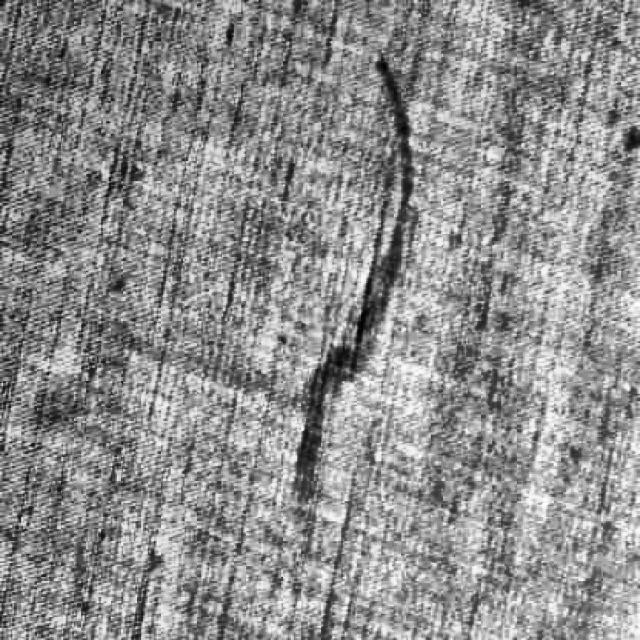oil_spot: (268, 37, 431, 513)
